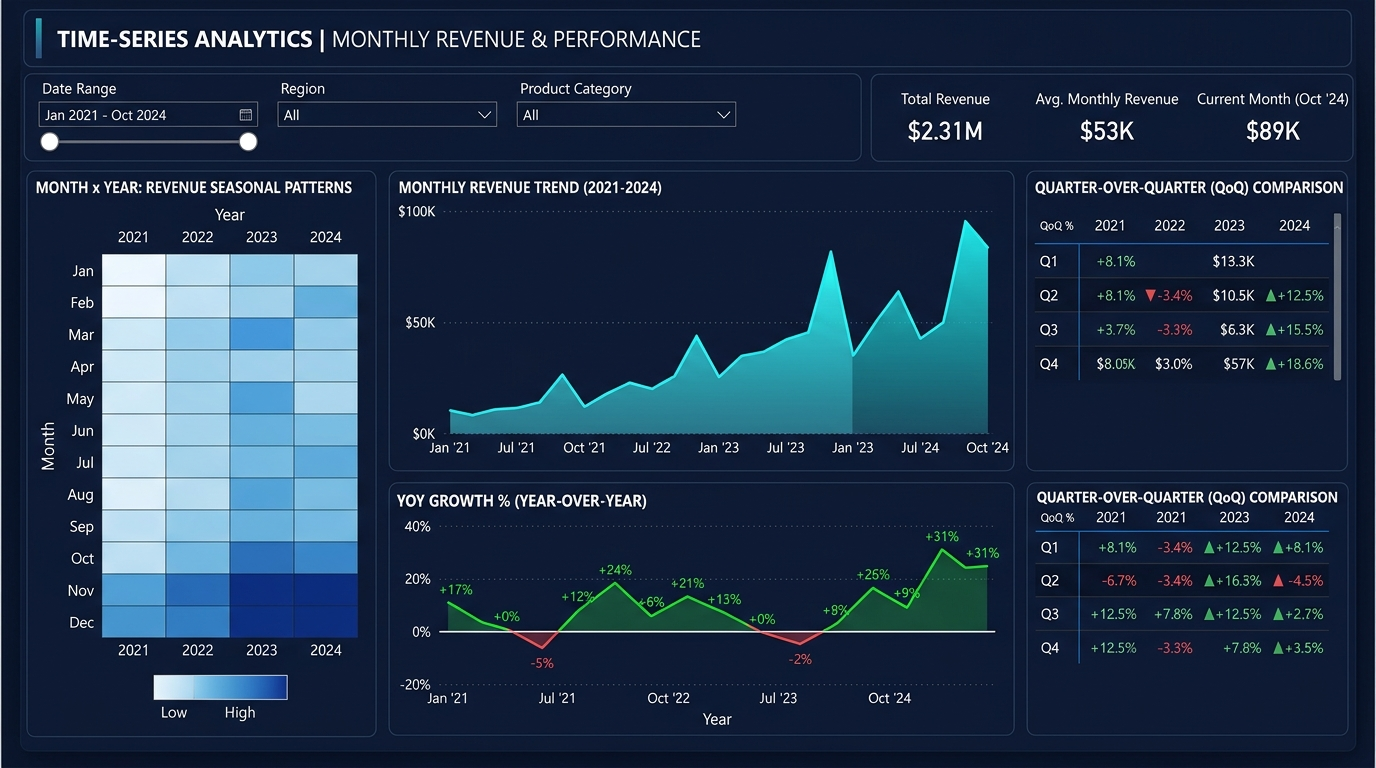

What the dashboard file says about the page in this screenshot:
{"tool":"powerbi","page":{"name":"Time-Series & Trends","canvas":[1280,720],"ordinal":2},"visuals":[{"type":"textbox","box":[0,0,146,720],"z":100},{"type":"textbox","box":[10,14,130,34],"z":200},{"type":"textbox","box":[10,46,130,24],"z":300},{"type":"card","fields":{"Values":["_Measures.Trends Title"]},"box":[160,8,1100,46],"z":500},{"type":"slicer","fields":{"Values":["DimDate.Year"]},"box":[160,58,330,46],"z":600},{"type":"slicer","fields":{"Values":["DimProduct.Category"]},"box":[498,58,250,46],"z":700},{"type":"slicer","fields":{"Values":["DimCustomer.Segment"]},"box":[756,58,250,46],"z":800},{"type":"slicer","fields":{"Values":["DimRegion.Region"]},"box":[1014,58,250,46],"z":900},{"type":"slicer","fields":{"Values":["MetricChoice.Metric"]},"box":[160,112,1104,40],"z":1000},{"type":"areaChart","fields":{"Category":["DimDate.MonthStart"],"Y":["_Measures.Selected Metric"]},"box":[160,160,700,254],"z":1100},{"type":"clusteredColumnChart","title":"Year-over-year revenue growth","fields":{"Category":["DimDate.Year"],"Y":["_Measures.YoY Growth %"]},"box":[870,160,394,254],"z":1200},{"type":"pivotTable","title":"Seasonality index (1.00 = average month)","fields":{"Columns":["DimDate.Year"],"Rows":["DimDate.MonthName"],"Values":["_Measures.Seasonality Index"]},"box":[160,424,330,286],"z":1300},{"type":"pivotTable","title":"Quarterly revenue and YoY growth","fields":{"Columns":["DimDate.Year"],"Rows":["DimDate.Quarter"],"Values":["_Measures.Total Revenue","_Measures.YoY Growth %"]},"box":[500,424,420,286],"z":1400},{"type":"lineChart","title":"Monthly revenue vs 3-month rolling average","fields":{"Category":["DimDate.MonthStart"],"Y":["_Measures.Total Revenue","_Measures.Revenue 3M Rolling Avg"]},"box":[930,424,334,286],"z":1500},{"type":"pageNavigator","box":[0,70.2,138.1,602.4],"z":1501}]}

Visuals, with their boxes in screenshot pixels (x1, y1, x2, y2), scaled from the page's 1280x720 canvas onto the 1376x768 screenshot:
textbox: 0,0,157,767
textbox: 11,15,150,51
textbox: 11,49,150,75
card - _Measures.Trends Title: 172,9,1354,58
slicer - DimDate.Year: 172,62,527,111
slicer - DimProduct.Category: 535,62,804,111
slicer - DimCustomer.Segment: 813,62,1081,111
slicer - DimRegion.Region: 1090,62,1359,111
slicer - MetricChoice.Metric: 172,119,1359,162
areaChart - DimDate.MonthStart x _Measures.Selected Metric: 172,171,924,442
"Year-over-year revenue growth" clusteredColumnChart: 935,171,1359,442
"Seasonality index (1.00 = average month)" pivotTable: 172,452,527,757
"Quarterly revenue and YoY growth" pivotTable: 538,452,989,757
"Monthly revenue vs 3-month rolling average" lineChart: 1000,452,1359,757
pageNavigator: 0,75,148,717
